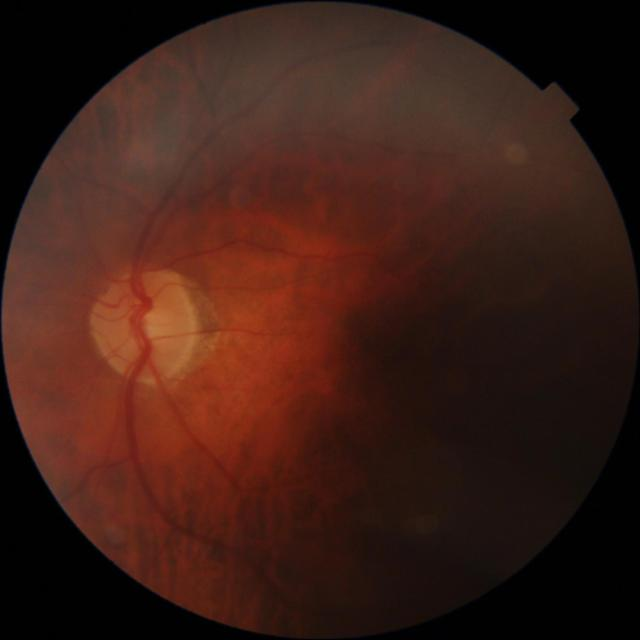OC: (140, 309, 172, 339)
OD: (91, 270, 197, 383)
